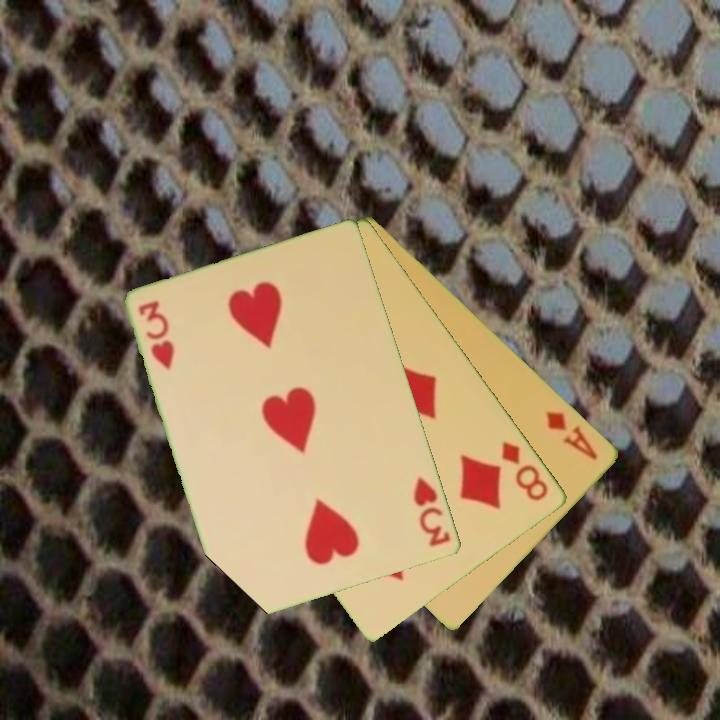3h: (410, 474, 454, 550), (135, 297, 178, 374)
8d: (498, 437, 552, 504)
Ad: (543, 407, 601, 463)
